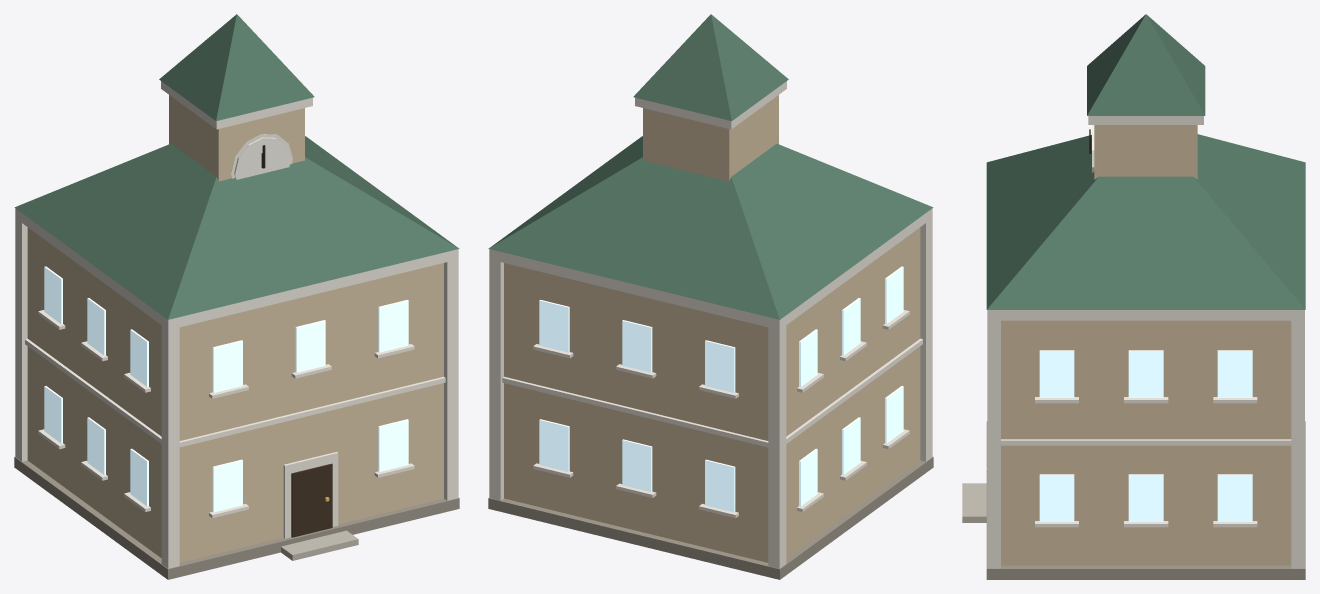
Rendered from casa-cultura.glb.
3 renders of one model, left to right at view 1: azimuth 30°, elevation 25°; view 2: azimuth 150°, elevation 25°; view 3: azimuth 270°, elevation 25°, orthographic. The views are drawn at different scales.
Parts seen in each view (by area): view 1: casa-cultura_1, casa-cultura_7, casa-cultura_2, casa-cultura_3, casa-cultura_0, casa-cultura_4, casa-cultura_8, casa-cultura_6; view 2: casa-cultura_1, casa-cultura_7, casa-cultura_2, casa-cultura_3, casa-cultura_0; view 3: casa-cultura_1, casa-cultura_7, casa-cultura_2, casa-cultura_3, casa-cultura_0, casa-cultura_6.
Boxes of the visible parts, left/top/right/bottom form: casa-cultura_1: left=27, top=95, right=443, bottom=562; casa-cultura_7: left=14, top=14, right=459, bottom=319; casa-cultura_2: left=15, top=81, right=458, bottom=568; casa-cultura_3: left=44, top=266, right=408, bottom=512; casa-cultura_0: left=14, top=457, right=459, bottom=579; casa-cultura_4: left=291, top=463, right=332, bottom=537; casa-cultura_8: left=234, top=137, right=290, bottom=179; casa-cultura_6: left=281, top=530, right=358, bottom=560; casa-cultura_1: left=504, top=95, right=920, bottom=562; casa-cultura_7: left=488, top=14, right=933, bottom=319; casa-cultura_2: left=489, top=81, right=932, bottom=568; casa-cultura_3: left=539, top=266, right=903, bottom=512; casa-cultura_0: left=488, top=457, right=933, bottom=579; casa-cultura_1: left=1001, top=125, right=1291, bottom=565; casa-cultura_7: left=986, top=14, right=1305, bottom=309; casa-cultura_2: left=987, top=116, right=1304, bottom=568; casa-cultura_3: left=1039, top=350, right=1252, bottom=521; casa-cultura_0: left=986, top=421, right=1305, bottom=579; casa-cultura_6: left=962, top=483, right=986, bottom=522.
Size of the model in its own units: 11.5 by 17.87 by 11.3.
